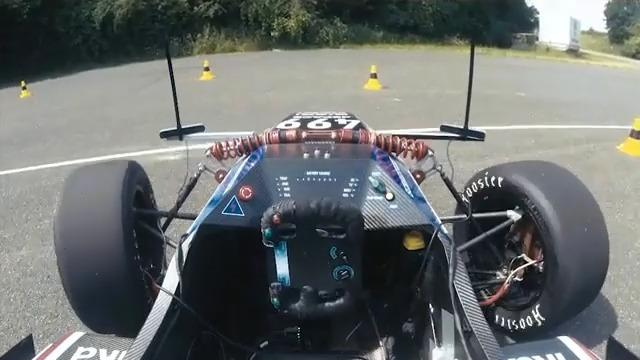yellow_cone: (615, 116, 640, 159), (362, 63, 384, 90), (199, 59, 216, 82), (19, 81, 32, 99)
